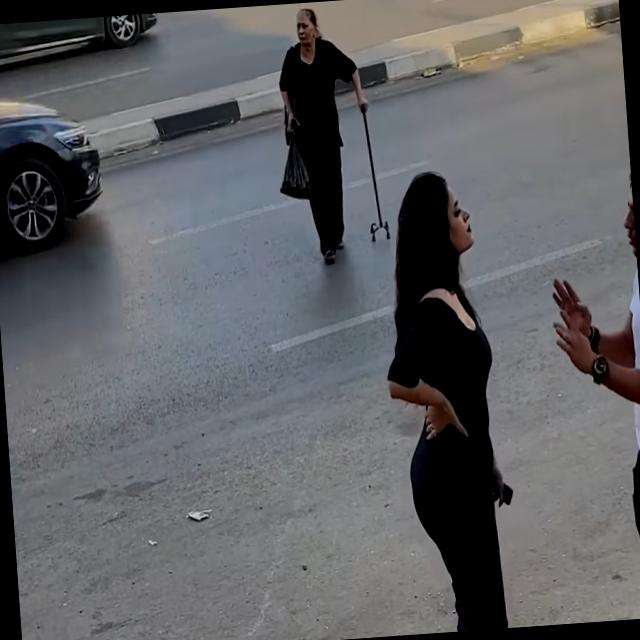person: (371, 166, 514, 635), (541, 173, 640, 623), (272, 3, 378, 266)
